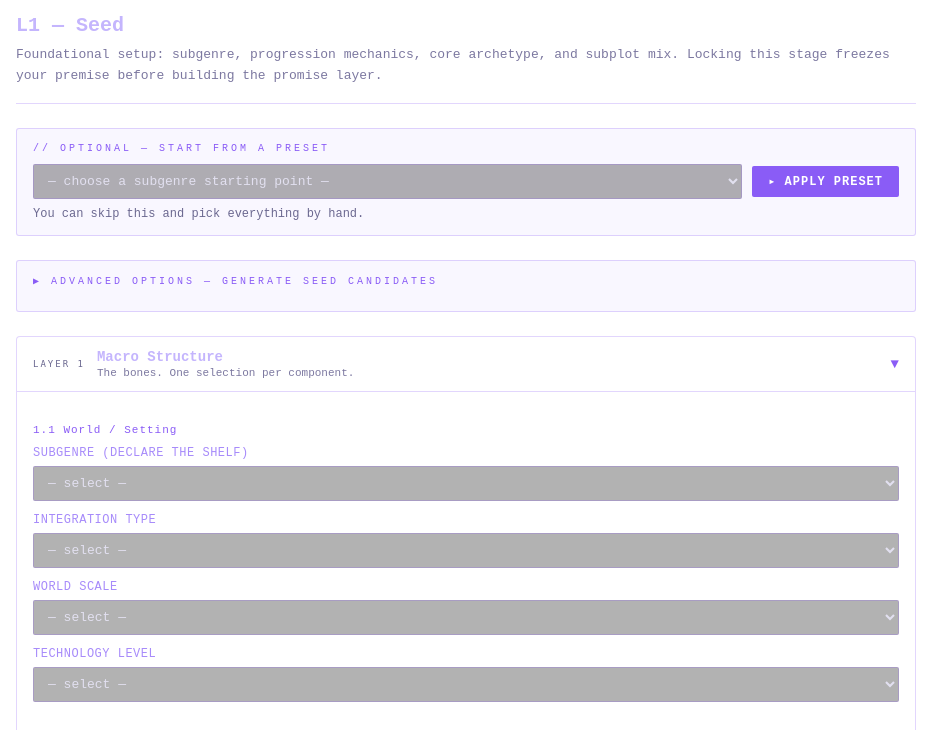
Test: L1Seed › allows picking a candidate
The width and height of the screenshot is (933, 730).
// Open advanced options and generate
Step 1. Click the text "▶ ADVANCED OPTIONS — GENERATE SEED CANDIDATES" → (236, 281), box [33, 276, 438, 287]
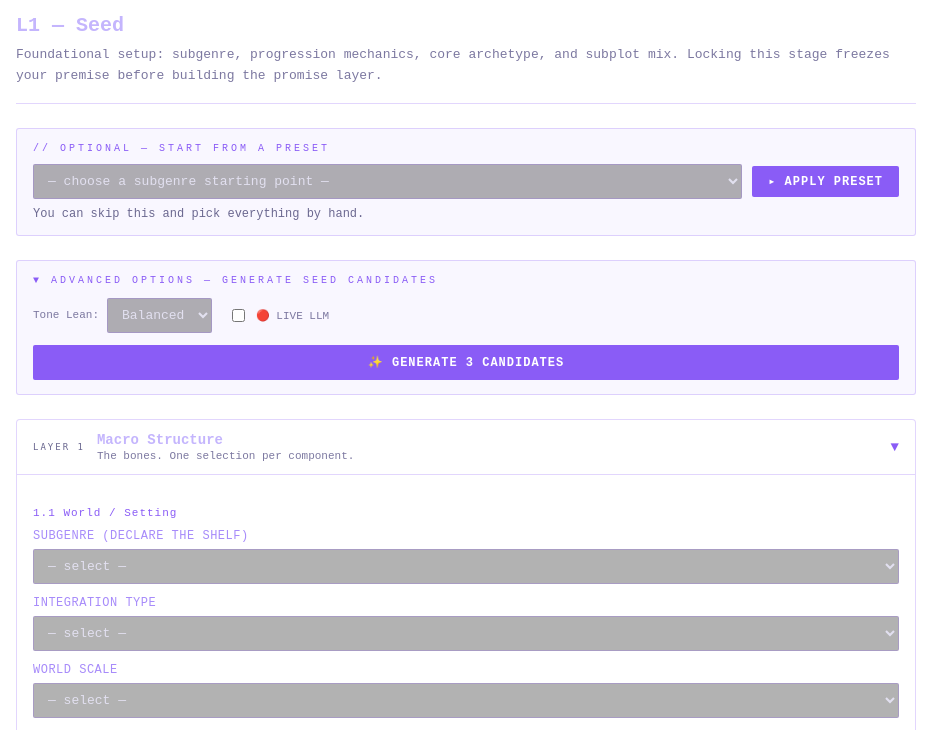
Step 2. Click the button "✨ GENERATE 3 CANDIDATES" → (466, 362), box [33, 345, 899, 380]
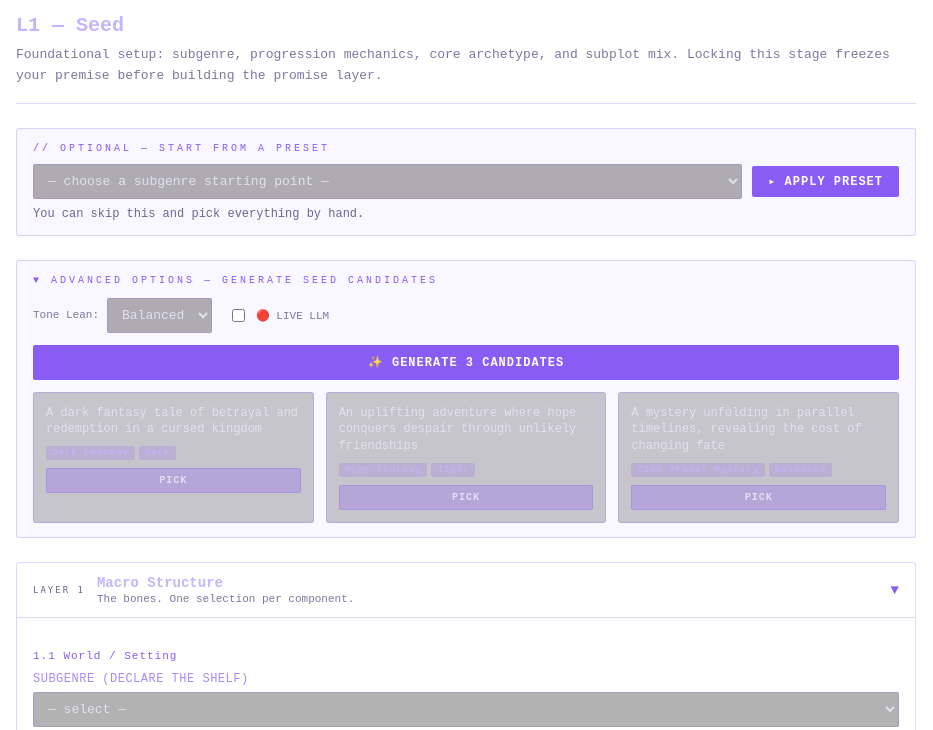
Result: the text "A dark fantasy tale of betrayal" is shown at [46, 406, 298, 436]
// Pick the first candidate
Step 3. Click the 1st button "PICK" → (173, 481), box [46, 468, 301, 493]
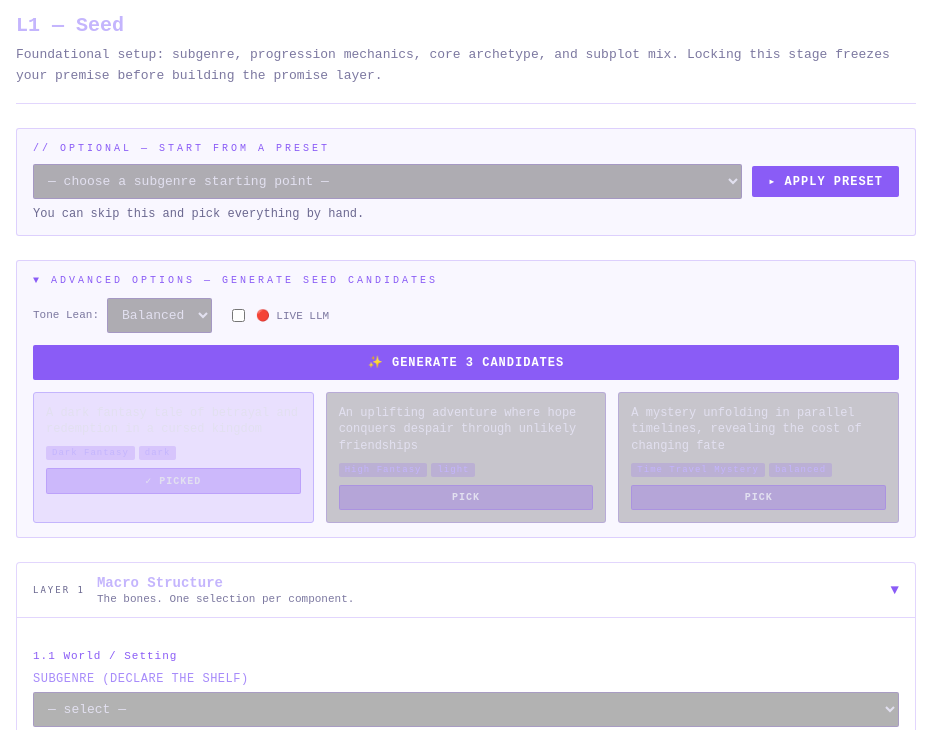
Result: the button "✓ PICKED" is shown at [46, 468, 301, 494]
